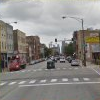crosswalk: (8, 77, 90, 84)
